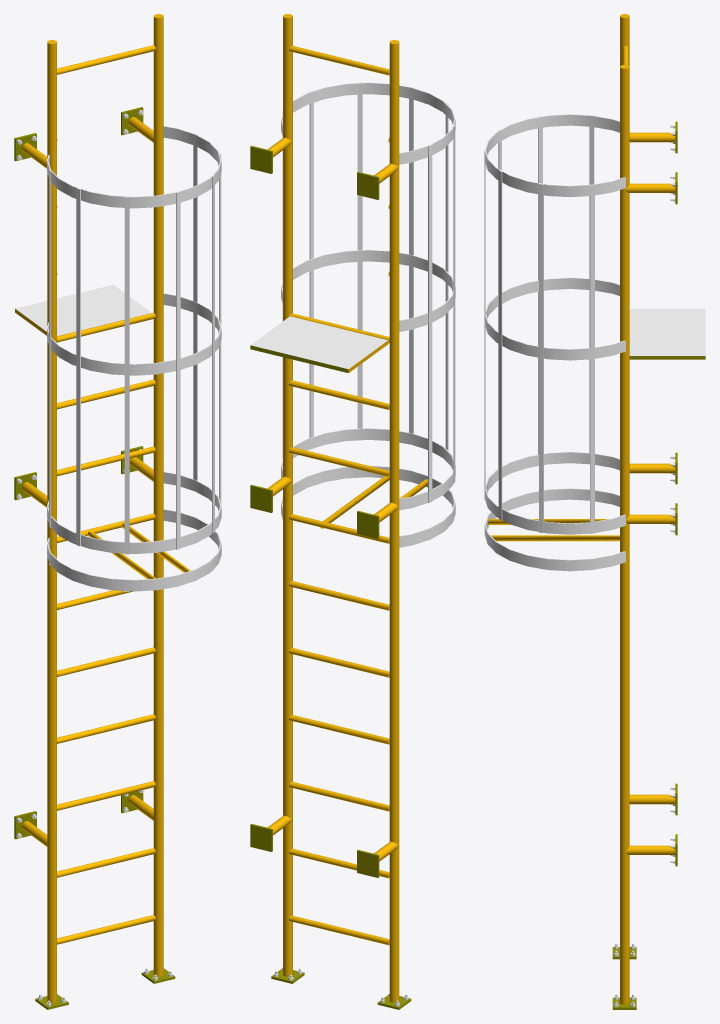
Rendered from EscaleraVertical.fbx.
3 views of the same model, side by side, from view 1: azimuth 30°, elevation 25°; view 2: azimuth 150°, elevation 25°; view 3: azimuth 270°, elevation 25° (orthographic). The views are drawn at different scales.
Visible parts, largest first — view 1: EscaleraVertical; view 2: EscaleraVertical; view 3: EscaleraVertical.
Boxes of the visible parts, x1,y1,x2,y2 form: EscaleraVertical: (14, 14, 221, 1009); EscaleraVertical: (250, 14, 455, 1009); EscaleraVertical: (484, 14, 705, 1009).
Bounding box in the file's own units: 27.96 × 170 × 36.27.
